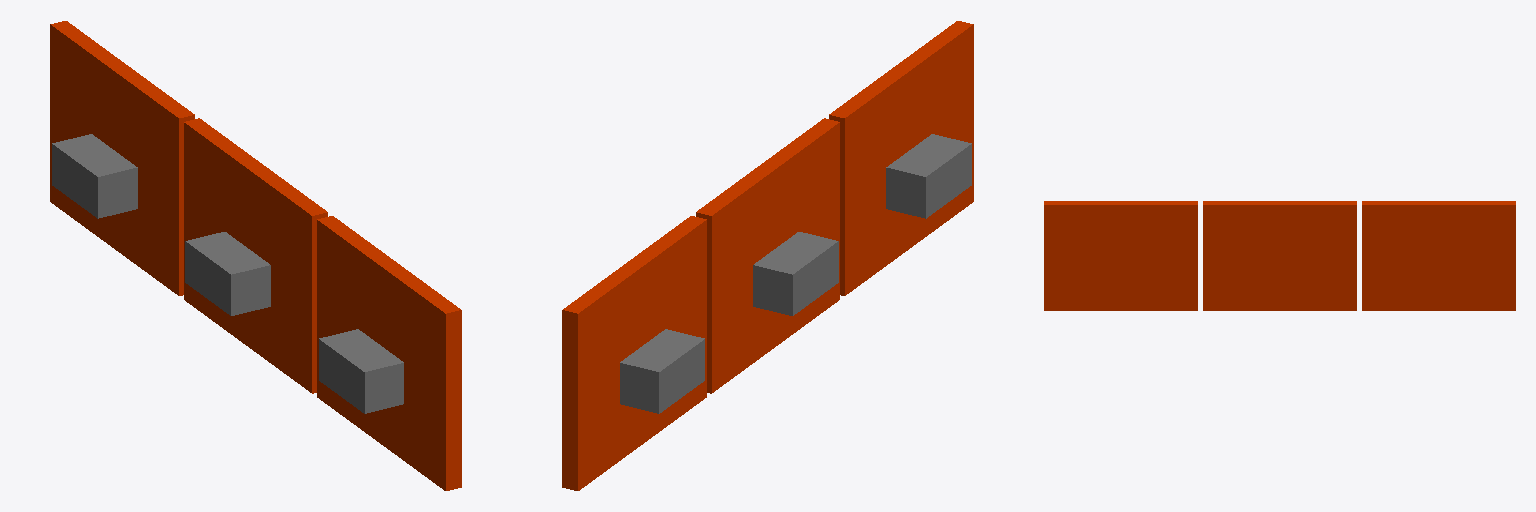
The robot description file, URDF, robot "environment":
<?xml version='1.0' encoding='utf-8'?>
<robot name="environment">
  <link name="world_root" />
  <link name="world" />
  <joint name="world_root_to_world" type="fixed">
    <parent link="world_root" />
    <child link="world" />
    <origin xyz="0.0 0.0 0.0" rpy="0.0 0.0 0.0" />
  </joint>
  <link name="tracy/map" />
  <joint name="tracy/world_T_map" type="fixed">
    <parent link="world" />
    <child link="tracy/map" />
    <origin xyz="0.0 0.0 0.0" rpy="0.0 0.0 0.0" />
  </joint>
  <link name="shape_sorting_board">
    <visual>
      <origin xyz="0.0 0.0 0.0" rpy="0.0 0.0 0.0" />
      <geometry>
        <mesh filename="meshes/recording/resources-382ef60d/board.stl" scale="1.0 1.0 1.0" />
      </geometry>
      <material name="shape_sorting_board#0">
        <color rgba="1.0 0.32 0.0 1.0" />
      </material>
    </visual>
    <visual>
      <origin xyz="-0.052 -0.087 0.0" rpy="0.0 0.0 0.0" />
      <geometry>
        <box size="0.006 0.084 0.064" />
      </geometry>
      <material name="shape_sorting_board#1">
        <color rgba="0.85 0.27 0.0 1.0" />
      </material>
    </visual>
    <visual>
      <origin xyz="-0.052 0.0 0.0" rpy="0.0 0.0 0.0" />
      <geometry>
        <box size="0.006 0.084 0.064" />
      </geometry>
      <material name="shape_sorting_board#2">
        <color rgba="0.85 0.27 0.0 1.0" />
      </material>
    </visual>
    <visual>
      <origin xyz="-0.052 0.087 0.0" rpy="0.0 0.0 0.0" />
      <geometry>
        <box size="0.006 0.084 0.064" />
      </geometry>
      <material name="shape_sorting_board#3">
        <color rgba="0.85 0.27 0.0 1.0" />
      </material>
    </visual>
    <visual>
      <origin xyz="-0.0625 -0.087 -0.004" rpy="0.0 0.0 0.0" />
      <geometry>
        <box size="0.015 0.03 0.015" />
      </geometry>
      <material name="shape_sorting_board#4">
        <color rgba="0.5 0.5 0.5 1.0" />
      </material>
    </visual>
    <visual>
      <origin xyz="-0.0625 0.0 -0.004" rpy="0.0 0.0 0.0" />
      <geometry>
        <box size="0.015 0.03 0.015" />
      </geometry>
      <material name="shape_sorting_board#5">
        <color rgba="0.5 0.5 0.5 1.0" />
      </material>
    </visual>
    <visual>
      <origin xyz="-0.0625 0.087 -0.004" rpy="0.0 0.0 0.0" />
      <geometry>
        <box size="0.015 0.03 0.015" />
      </geometry>
      <material name="shape_sorting_board#6">
        <color rgba="0.5 0.5 0.5 1.0" />
      </material>
    </visual>
    <collision>
      <origin xyz="0.0 0.133 0.0" rpy="0.0 0.0 0.0" />
      <geometry>
        <box size="0.098 0.008 0.064" />
      </geometry>
    </collision>
    <collision>
      <origin xyz="0.0 -0.133 0.0" rpy="0.0 0.0 0.0" />
      <geometry>
        <box size="0.098 0.008 0.064" />
      </geometry>
    </collision>
    <collision>
      <origin xyz="0.045 0.0 0.0" rpy="0.0 0.0 0.0" />
      <geometry>
        <box size="0.002 0.258 0.064" />
      </geometry>
    </collision>
    <collision>
      <origin xyz="-0.0025 0.0435 0.0" rpy="0.0 0.0 0.0" />
      <geometry>
        <box size="0.093 0.003 0.064" />
      </geometry>
    </collision>
    <collision>
      <origin xyz="-0.0025 -0.0435 0.0" rpy="0.0 0.0 0.0" />
      <geometry>
        <box size="0.093 0.003 0.064" />
      </geometry>
    </collision>
    <collision>
      <origin xyz="0.0 0.0 -0.036" rpy="0.0 0.0 0.0" />
      <geometry>
        <box size="0.11 0.282 0.008" />
      </geometry>
    </collision>
    <collision>
      <origin xyz="-0.04625 -0.122 0.036" rpy="0.0 0.0 0.0" />
      <geometry>
        <box size="0.0175 0.038 0.008" />
      </geometry>
    </collision>
    <collision>
      <origin xyz="-0.04625 -0.087 0.036" rpy="0.0 0.0 0.0" />
      <geometry>
        <box size="0.0175 0.032 0.008" />
      </geometry>
    </collision>
    <collision>
      <origin xyz="-0.04625 -0.046 0.036" rpy="0.0 0.0 0.0" />
      <geometry>
        <box size="0.0175 0.05 0.008" />
      </geometry>
    </collision>
    <collision>
      <origin xyz="-0.04625 0.0 0.036" rpy="0.0 0.0 0.0" />
      <geometry>
        <box size="0.0175 0.042 0.008" />
      </geometry>
    </collision>
    <collision>
      <origin xyz="-0.04625 0.044 0.036" rpy="0.0 0.0 0.0" />
      <geometry>
        <box size="0.0175 0.046 0.008" />
      </geometry>
    </collision>
    <collision>
      <origin xyz="-0.04625 0.069 0.036" rpy="0.0 0.0 0.0" />
      <geometry>
        <box size="0.0175 0.004 0.008" />
      </geometry>
    </collision>
    <collision>
      <origin xyz="-0.04625 0.091 0.036" rpy="0.0 0.0 0.0" />
      <geometry>
        <box size="0.0175 0.04 0.008" />
      </geometry>
    </collision>
    <collision>
      <origin xyz="-0.04625 0.113 0.036" rpy="0.0 0.0 0.0" />
      <geometry>
        <box size="0.0175 0.004 0.008" />
      </geometry>
    </collision>
    <collision>
      <origin xyz="-0.04625 0.128 0.036" rpy="0.0 0.0 0.0" />
      <geometry>
        <box size="0.0175 0.026 0.008" />
      </geometry>
    </collision>
    <collision>
      <origin xyz="-0.0265 -0.122 0.036" rpy="0.0 0.0 0.0" />
      <geometry>
        <box size="0.022 0.038 0.008" />
      </geometry>
    </collision>
    <collision>
      <origin xyz="-0.0265 -0.046 0.036" rpy="0.0 0.0 0.0" />
      <geometry>
        <box size="0.022 0.05 0.008" />
      </geometry>
    </collision>
    <collision>
      <origin xyz="-0.0265 0.044 0.036" rpy="0.0 0.0 0.0" />
      <geometry>
        <box size="0.022 0.046 0.008" />
      </geometry>
    </collision>
    <collision>
      <origin xyz="-0.0265 0.069 0.036" rpy="0.0 0.0 0.0" />
      <geometry>
        <box size="0.022 0.004 0.008" />
      </geometry>
    </collision>
    <collision>
      <origin xyz="-0.0265 0.113 0.036" rpy="0.0 0.0 0.0" />
      <geometry>
        <box size="0.022 0.004 0.008" />
      </geometry>
    </collision>
    <collision>
      <origin xyz="-0.0265 0.128 0.036" rpy="0.0 0.0 0.0" />
      <geometry>
        <box size="0.022 0.026 0.008" />
      </geometry>
    </collision>
    <collision>
      <origin xyz="-0.0105 -0.122 0.036" rpy="0.0 0.0 0.0" />
      <geometry>
        <box size="0.01 0.038 0.008" />
      </geometry>
    </collision>
    <collision>
      <origin xyz="-0.0105 -0.046 0.036" rpy="0.0 0.0 0.0" />
      <geometry>
        <box size="0.01 0.05 0.008" />
      </geometry>
    </collision>
    <collision>
      <origin xyz="-0.0105 0.0 0.036" rpy="0.0 0.0 0.0" />
      <geometry>
        <box size="0.01 0.042 0.008" />
      </geometry>
    </collision>
    <collision>
      <origin xyz="-0.0105 0.044 0.036" rpy="0.0 0.0 0.0" />
      <geometry>
        <box size="0.01 0.046 0.008" />
      </geometry>
    </collision>
    <collision>
      <origin xyz="-0.0105 0.069 0.036" rpy="0.0 0.0 0.0" />
      <geometry>
        <box size="0.01 0.004 0.008" />
      </geometry>
    </collision>
    <collision>
      <origin xyz="-0.0105 0.113 0.036" rpy="0.0 0.0 0.0" />
      <geometry>
        <box size="0.01 0.004 0.008" />
      </geometry>
    </collision>
    <collision>
      <origin xyz="-0.0105 0.128 0.036" rpy="0.0 0.0 0.0" />
      <geometry>
        <box size="0.01 0.026 0.008" />
      </geometry>
    </collision>
    <collision>
      <origin xyz="-0.0025 -0.122 0.036" rpy="0.0 0.0 0.0" />
      <geometry>
        <box size="0.006 0.038 0.008" />
      </geometry>
    </collision>
    <collision>
      <origin xyz="-0.0025 -0.087 0.036" rpy="0.0 0.0 0.0" />
      <geometry>
        <box size="0.006 0.032 0.008" />
      </geometry>
    </collision>
    <collision>
      <origin xyz="-0.0025 -0.046 0.036" rpy="0.0 0.0 0.0" />
      <geometry>
        <box size="0.006 0.05 0.008" />
      </geometry>
    </collision>
    <collision>
      <origin xyz="-0.0025 0.0 0.036" rpy="0.0 0.0 0.0" />
      <geometry>
        <box size="0.006 0.042 0.008" />
      </geometry>
    </collision>
    <collision>
      <origin xyz="-0.0025 0.044 0.036" rpy="0.0 0.0 0.0" />
      <geometry>
        <box size="0.006 0.046 0.008" />
      </geometry>
    </collision>
    <collision>
      <origin xyz="-0.0025 0.069 0.036" rpy="0.0 0.0 0.0" />
      <geometry>
        <box size="0.006 0.004 0.008" />
      </geometry>
    </collision>
    <collision>
      <origin xyz="-0.0025 0.113 0.036" rpy="0.0 0.0 0.0" />
      <geometry>
        <box size="0.006 0.004 0.008" />
      </geometry>
    </collision>
    <collision>
      <origin xyz="-0.0025 0.128 0.036" rpy="0.0 0.0 0.0" />
      <geometry>
        <box size="0.006 0.026 0.008" />
      </geometry>
    </collision>
    <collision>
      <origin xyz="0.0015 -0.122 0.036" rpy="0.0 0.0 0.0" />
      <geometry>
        <box size="0.002 0.038 0.008" />
      </geometry>
    </collision>
    <collision>
      <origin xyz="0.0015 -0.087 0.036" rpy="0.0 0.0 0.0" />
      <geometry>
        <box size="0.002 0.032 0.008" />
      </geometry>
    </collision>
    <collision>
      <origin xyz="0.0015 -0.046 0.036" rpy="0.0 0.0 0.0" />
      <geometry>
        <box size="0.002 0.05 0.008" />
      </geometry>
    </collision>
    <collision>
      <origin xyz="0.0015 0.044 0.036" rpy="0.0 0.0 0.0" />
      <geometry>
        <box size="0.002 0.046 0.008" />
      </geometry>
    </collision>
    <collision>
      <origin xyz="0.0015 0.069 0.036" rpy="0.0 0.0 0.0" />
      <geometry>
        <box size="0.002 0.004 0.008" />
      </geometry>
    </collision>
    <collision>
      <origin xyz="0.0015 0.113 0.036" rpy="0.0 0.0 0.0" />
      <geometry>
        <box size="0.002 0.004 0.008" />
      </geometry>
    </collision>
    <collision>
      <origin xyz="0.0015 0.128 0.036" rpy="0.0 0.0 0.0" />
      <geometry>
        <box size="0.002 0.026 0.008" />
      </geometry>
    </collision>
    <collision>
      <origin xyz="0.0035 -0.122 0.036" rpy="0.0 0.0 0.0" />
      <geometry>
        <box size="0.002 0.038 0.008" />
      </geometry>
    </collision>
    <collision>
      <origin xyz="0.0035 -0.087 0.036" rpy="0.0 0.0 0.0" />
      <geometry>
        <box size="0.002 0.032 0.008" />
      </geometry>
    </collision>
    <collision>
      <origin xyz="0.0035 -0.046 0.036" rpy="0.0 0.0 0.0" />
      <geometry>
        <box size="0.002 0.05 0.008" />
      </geometry>
    </collision>
    <collision>
      <origin xyz="0.0035 0.044 0.036" rpy="0.0 0.0 0.0" />
      <geometry>
        <box size="0.002 0.046 0.008" />
      </geometry>
    </collision>
    <collision>
      <origin xyz="0.0035 0.069 0.036" rpy="0.0 0.0 0.0" />
      <geometry>
        <box size="0.002 0.004 0.008" />
      </geometry>
    </collision>
    <collision>
      <origin xyz="0.0035 0.091 0.036" rpy="0.0 0.0 0.0" />
      <geometry>
        <box size="0.002 0.04 0.008" />
      </geometry>
    </collision>
    <collision>
      <origin xyz="0.0035 0.113 0.036" rpy="0.0 0.0 0.0" />
      <geometry>
        <box size="0.002 0.004 0.008" />
      </geometry>
    </collision>
    <collision>
      <origin xyz="0.0035 0.128 0.036" rpy="0.0 0.0 0.0" />
      <geometry>
        <box size="0.002 0.026 0.008" />
      </geometry>
    </collision>
    <collision>
      <origin xyz="0.0135 -0.122 0.036" rpy="0.0 0.0 0.0" />
      <geometry>
        <box size="0.018 0.038 0.008" />
      </geometry>
    </collision>
    <collision>
      <origin xyz="0.0135 -0.046 0.036" rpy="0.0 0.0 0.0" />
      <geometry>
        <box size="0.018 0.05 0.008" />
      </geometry>
    </collision>
    <collision>
      <origin xyz="0.0135 0.044 0.036" rpy="0.0 0.0 0.0" />
      <geometry>
        <box size="0.018 0.046 0.008" />
      </geometry>
    </collision>
    <collision>
      <origin xyz="0.0135 0.069 0.036" rpy="0.0 0.0 0.0" />
      <geometry>
        <box size="0.018 0.004 0.008" />
      </geometry>
    </collision>
    <collision>
      <origin xyz="0.0135 0.091 0.036" rpy="0.0 0.0 0.0" />
      <geometry>
        <box size="0.018 0.04 0.008" />
      </geometry>
    </collision>
    <collision>
      <origin xyz="0.0135 0.113 0.036" rpy="0.0 0.0 0.0" />
      <geometry>
        <box size="0.018 0.004 0.008" />
      </geometry>
    </collision>
    <collision>
      <origin xyz="0.0135 0.128 0.036" rpy="0.0 0.0 0.0" />
      <geometry>
        <box size="0.018 0.026 0.008" />
      </geometry>
    </collision>
    <collision>
      <origin xyz="0.025 -0.122 0.036" rpy="0.0 0.0 0.0" />
      <geometry>
        <box size="0.005 0.038 0.008" />
      </geometry>
    </collision>
    <collision>
      <origin xyz="0.025 -0.046 0.036" rpy="0.0 0.0 0.0" />
      <geometry>
        <box size="0.005 0.05 0.008" />
      </geometry>
    </collision>
    <collision>
      <origin xyz="0.025 0.044 0.036" rpy="0.0 0.0 0.0" />
      <geometry>
        <box size="0.005 0.046 0.008" />
      </geometry>
    </collision>
    <collision>
      <origin xyz="0.025 0.128 0.036" rpy="0.0 0.0 0.0" />
      <geometry>
        <box size="0.005 0.026 0.008" />
      </geometry>
    </collision>
    <collision>
      <origin xyz="0.032 -0.122 0.036" rpy="0.0 0.0 0.0" />
      <geometry>
        <box size="0.009 0.038 0.008" />
      </geometry>
    </collision>
    <collision>
      <origin xyz="0.032 -0.046 0.036" rpy="0.0 0.0 0.0" />
      <geometry>
        <box size="0.009 0.05 0.008" />
      </geometry>
    </collision>
    <collision>
      <origin xyz="0.032 0.044 0.036" rpy="0.0 0.0 0.0" />
      <geometry>
        <box size="0.009 0.046 0.008" />
      </geometry>
    </collision>
    <collision>
      <origin xyz="0.032 0.069 0.036" rpy="0.0 0.0 0.0" />
      <geometry>
        <box size="0.009 0.004 0.008" />
      </geometry>
    </collision>
    <collision>
      <origin xyz="0.032 0.091 0.036" rpy="0.0 0.0 0.0" />
      <geometry>
        <box size="0.009 0.04 0.008" />
      </geometry>
    </collision>
    <collision>
      <origin xyz="0.032 0.113 0.036" rpy="0.0 0.0 0.0" />
      <geometry>
        <box size="0.009 0.004 0.008" />
      </geometry>
    </collision>
    <collision>
      <origin xyz="0.032 0.128 0.036" rpy="0.0 0.0 0.0" />
      <geometry>
        <box size="0.009 0.026 0.008" />
      </geometry>
    </collision>
    <collision>
      <origin xyz="0.04575 -0.122 0.036" rpy="0.0 0.0 0.0" />
      <geometry>
        <box size="0.0185 0.038 0.008" />
      </geometry>
    </collision>
    <collision>
      <origin xyz="0.04575 -0.087 0.036" rpy="0.0 0.0 0.0" />
      <geometry>
        <box size="0.0185 0.032 0.008" />
      </geometry>
    </collision>
    <collision>
      <origin xyz="0.04575 -0.046 0.036" rpy="0.0 0.0 0.0" />
      <geometry>
        <box size="0.0185 0.05 0.008" />
      </geometry>
    </collision>
    <collision>
      <origin xyz="0.04575 0.0 0.036" rpy="0.0 0.0 0.0" />
      <geometry>
        <box size="0.0185 0.042 0.008" />
      </geometry>
    </collision>
    <collision>
      <origin xyz="0.04575 0.044 0.036" rpy="0.0 0.0 0.0" />
      <geometry>
        <box size="0.0185 0.046 0.008" />
      </geometry>
    </collision>
    <collision>
      <origin xyz="0.04575 0.069 0.036" rpy="0.0 0.0 0.0" />
      <geometry>
        <box size="0.0185 0.004 0.008" />
      </geometry>
    </collision>
    <collision>
      <origin xyz="0.04575 0.091 0.036" rpy="0.0 0.0 0.0" />
      <geometry>
        <box size="0.0185 0.04 0.008" />
      </geometry>
    </collision>
    <collision>
      <origin xyz="0.04575 0.113 0.036" rpy="0.0 0.0 0.0" />
      <geometry>
        <box size="0.0185 0.004 0.008" />
      </geometry>
    </collision>
    <collision>
      <origin xyz="0.04575 0.128 0.036" rpy="0.0 0.0 0.0" />
      <geometry>
        <box size="0.0185 0.026 0.008" />
      </geometry>
    </collision>
    <collision>
      <origin xyz="-0.052 -0.087 0.0" rpy="0.0 0.0 0.0" />
      <geometry>
        <box size="0.006 0.084 0.064" />
      </geometry>
    </collision>
    <collision>
      <origin xyz="-0.052 0.0 0.0" rpy="0.0 0.0 0.0" />
      <geometry>
        <box size="0.006 0.084 0.064" />
      </geometry>
    </collision>
    <collision>
      <origin xyz="-0.052 0.087 0.0" rpy="0.0 0.0 0.0" />
      <geometry>
        <box size="0.006 0.084 0.064" />
      </geometry>
    </collision>
  </link>
  <joint name="shape_sorting_board_connection" type="fixed">
    <parent link="tracy/map" />
    <child link="shape_sorting_board" />
    <origin xyz="0.85 0.0 0.92" rpy="0.0 0.0 0.0" />
  </joint>
</robot>

--- Facts derived from the render (not from the file) ---
Views: 3 orthographic renders of the robot side by side, from view 1: azimuth 30°, elevation 25°; view 2: azimuth 150°, elevation 25°; view 3: azimuth 270°, elevation 25°.
Robot: environment — 4 links, 3 joints (3 fixed); root link world_root; default pose: all joints at 0.
Links seen in each view (by area): view 1: shape_sorting_board; view 2: shape_sorting_board; view 3: shape_sorting_board.
Link boxes in pixels (left/top/right/bottom): shape_sorting_board: left=50, top=21, right=461, bottom=490; shape_sorting_board: left=562, top=21, right=973, bottom=490; shape_sorting_board: left=1044, top=201, right=1515, bottom=310.
Bounding box of the posed robot: 0.021 × 0.258 × 0.064 m (x, y, z).
Meshes: 1 distinct files referenced, 0 mesh visuals loaded (none loaded); not drawn: 1 (reference not matched to a file when rendering).
